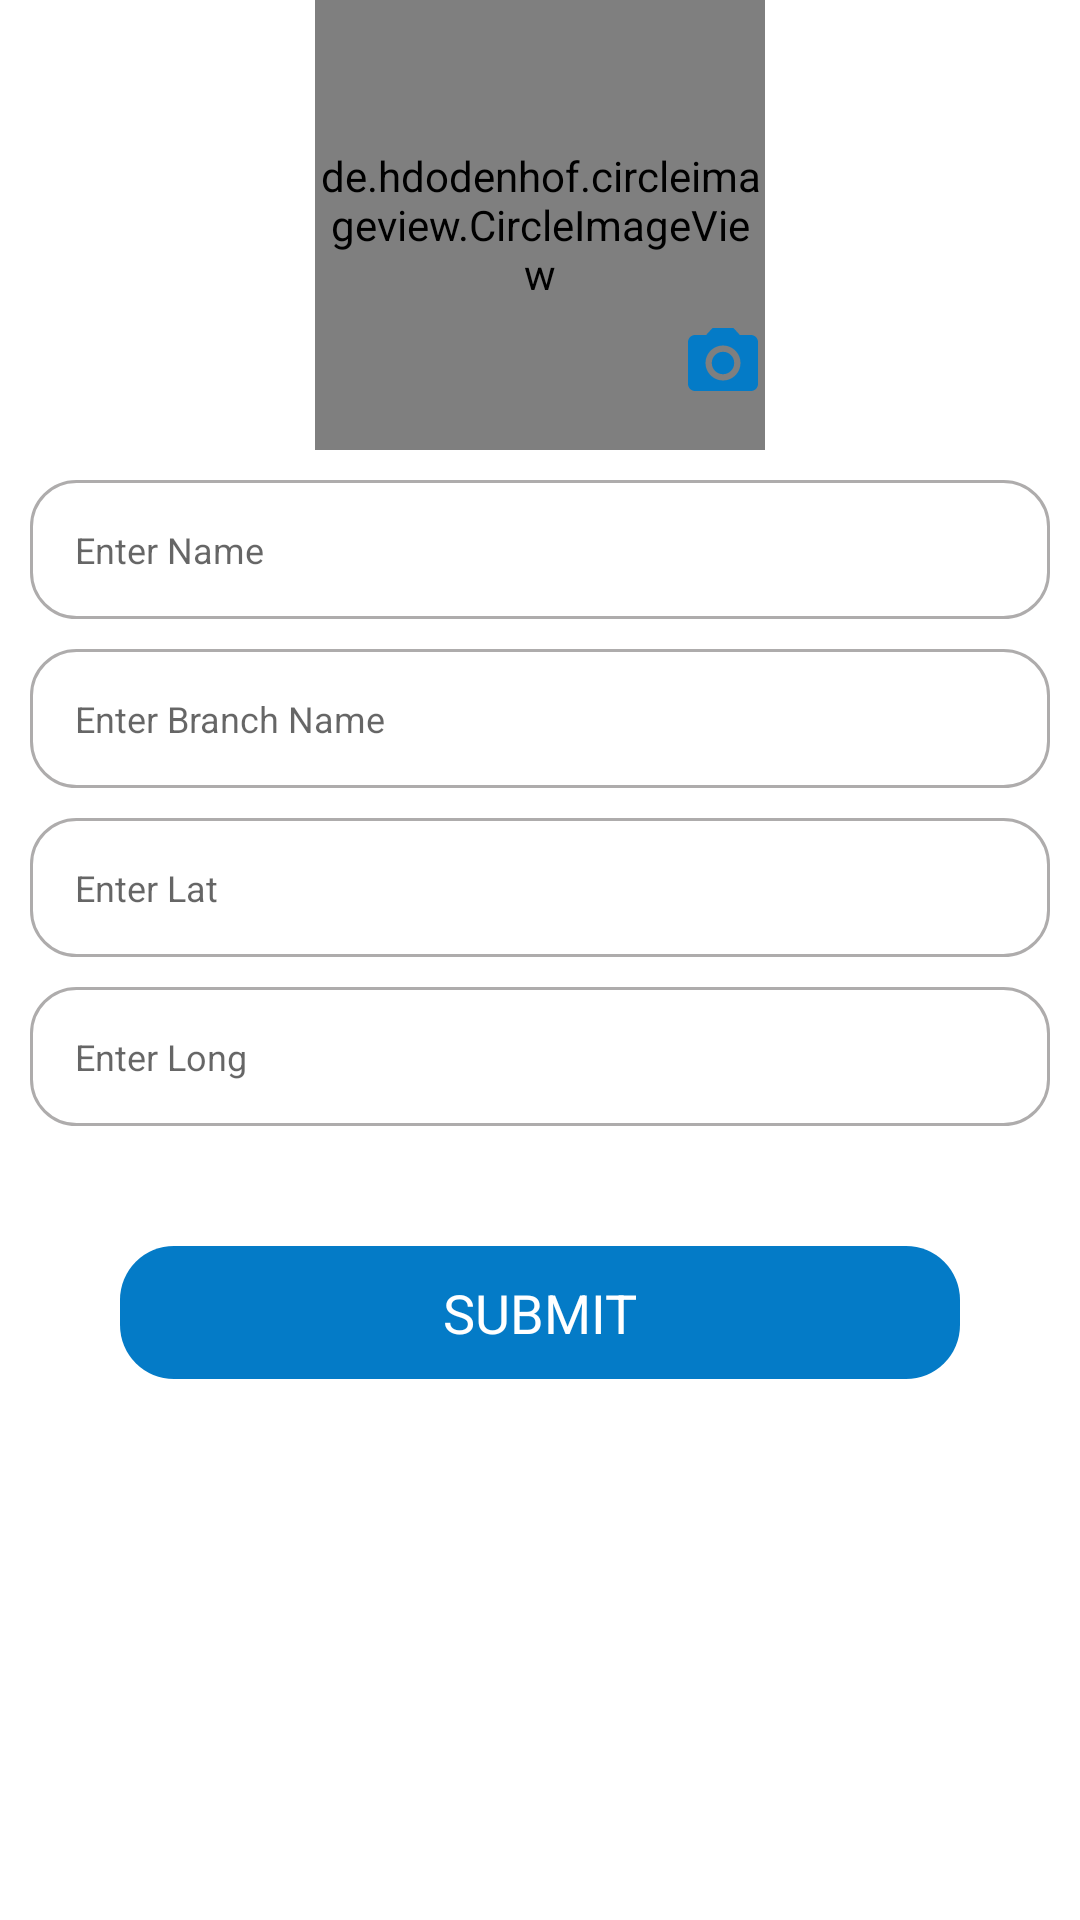

Locate icon controls on the screen. Image size 1080 x 1920, boxes as (x1, y1, x2, y2).
camera: (688, 328, 758, 391)
